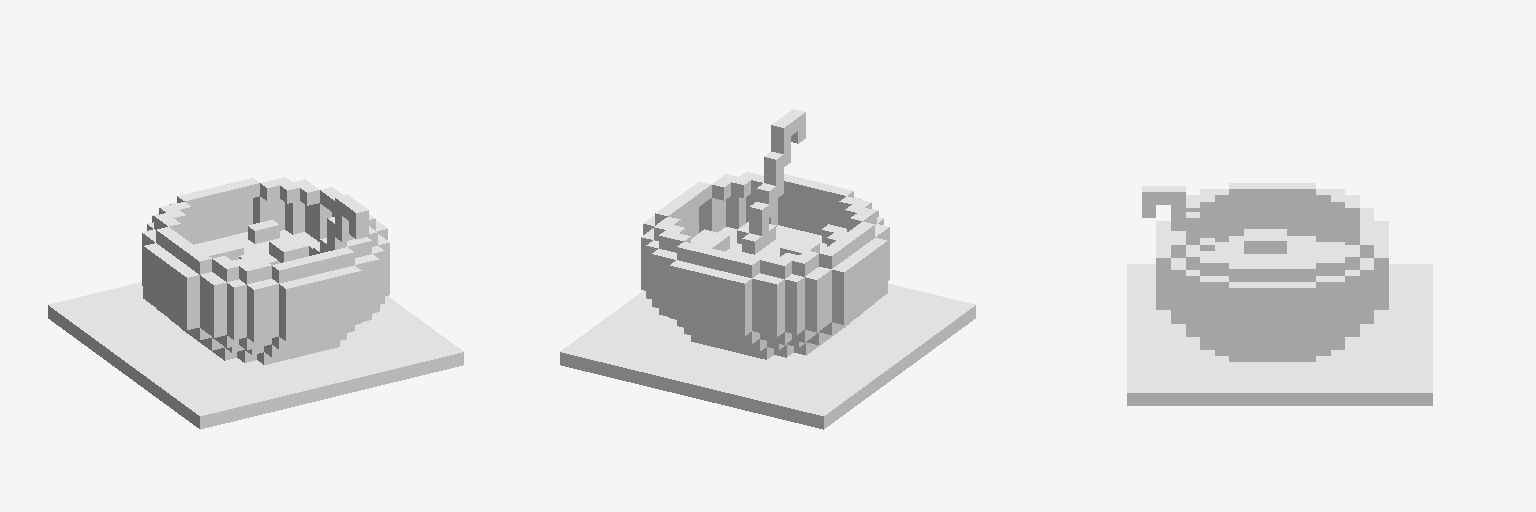
The model's file is SoupPlate.obj.
3 renders of one model, left to right at view 1: azimuth 30°, elevation 25°; view 2: azimuth 150°, elevation 25°; view 3: azimuth 270°, elevation 25°, orthographic.
Size of the model in its own units: 21 by 13 by 21.